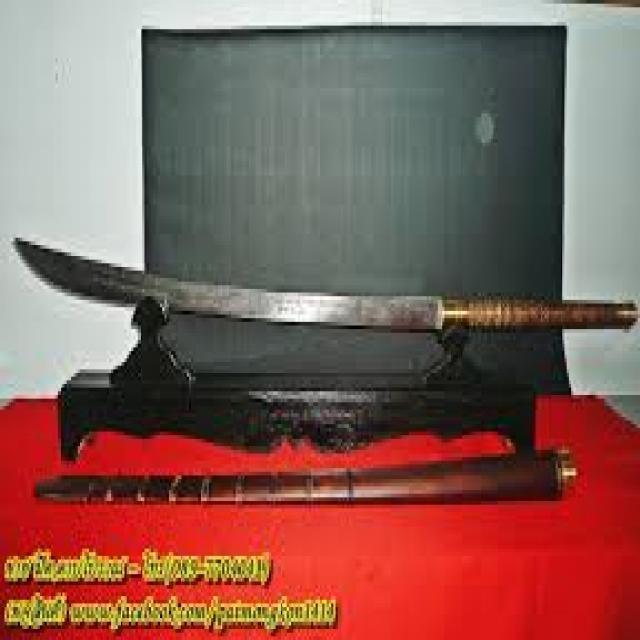long sword: (11, 232, 637, 337)
